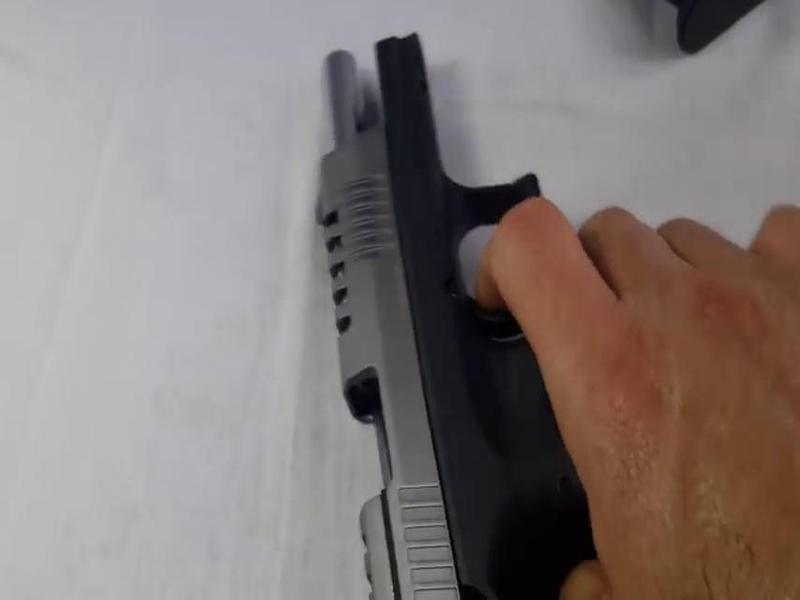Pistola: (287, 20, 645, 600)
